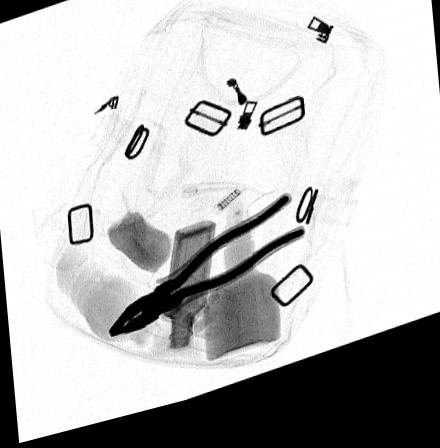Pliers: (104, 207, 307, 343)
